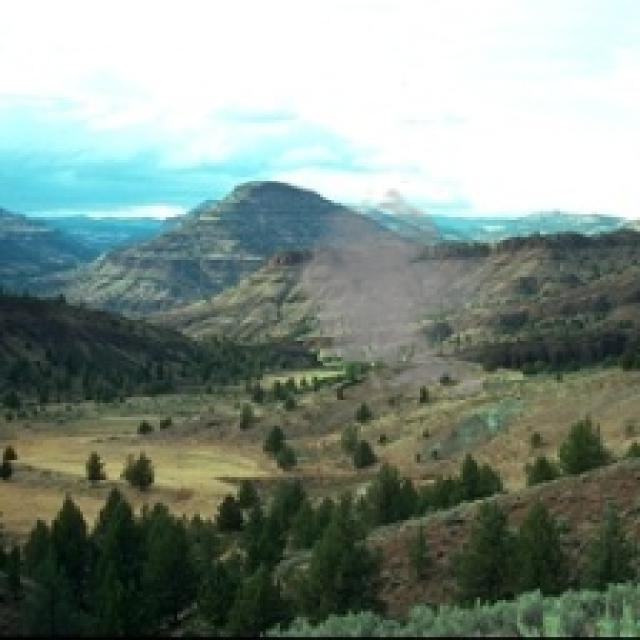Smoke: (283, 186, 523, 403)
